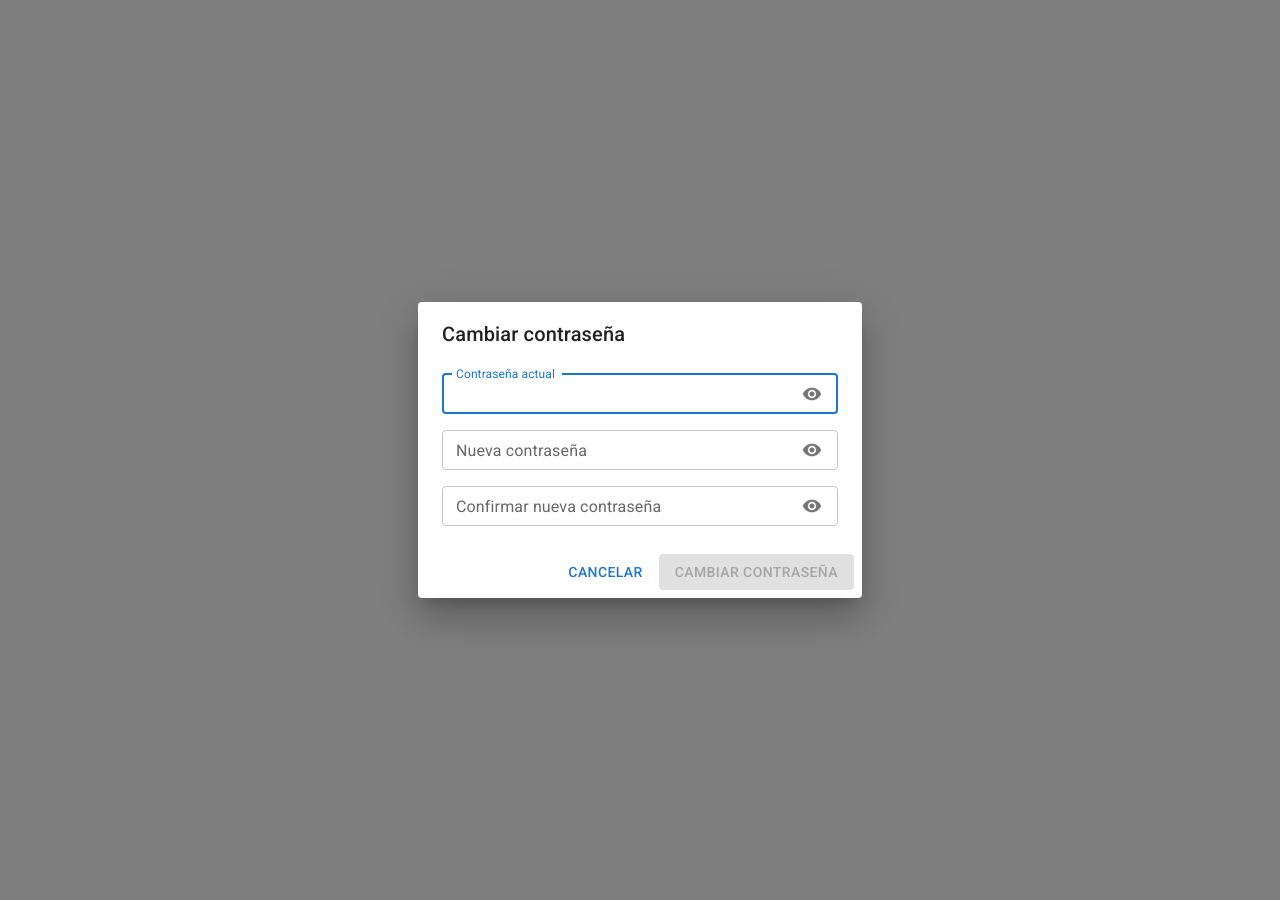
Scenario: ChangePasswordDialog › validates password confirmation match
Step 1. Type "NewPass1!" into the password field labelled "Nueva contraseña" → (616, 450), box left=442, top=430, right=789, bottom=470
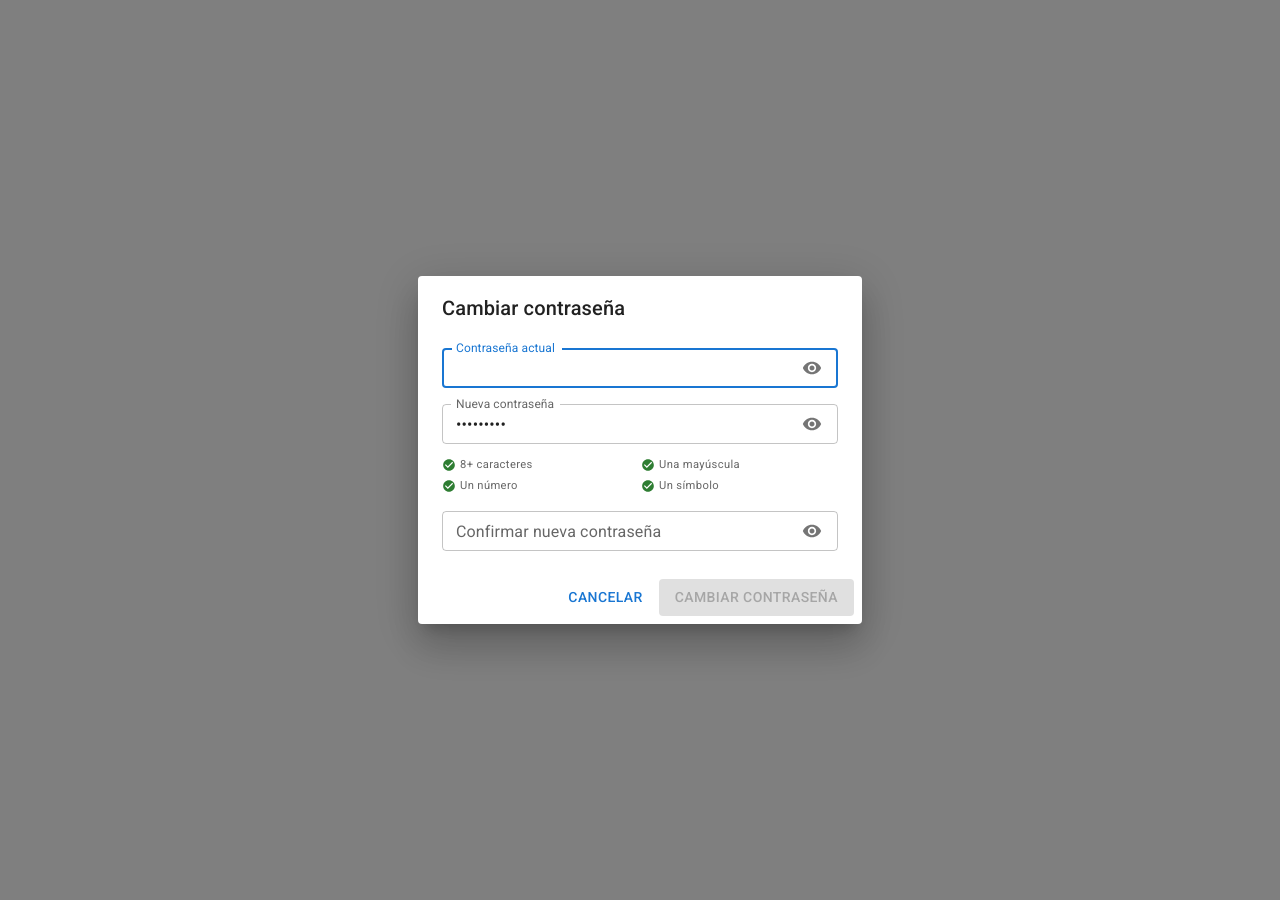
Step 2. Type "different" into the password field labelled "Confirmar nueva contraseña" → (616, 531), box left=442, top=511, right=789, bottom=551
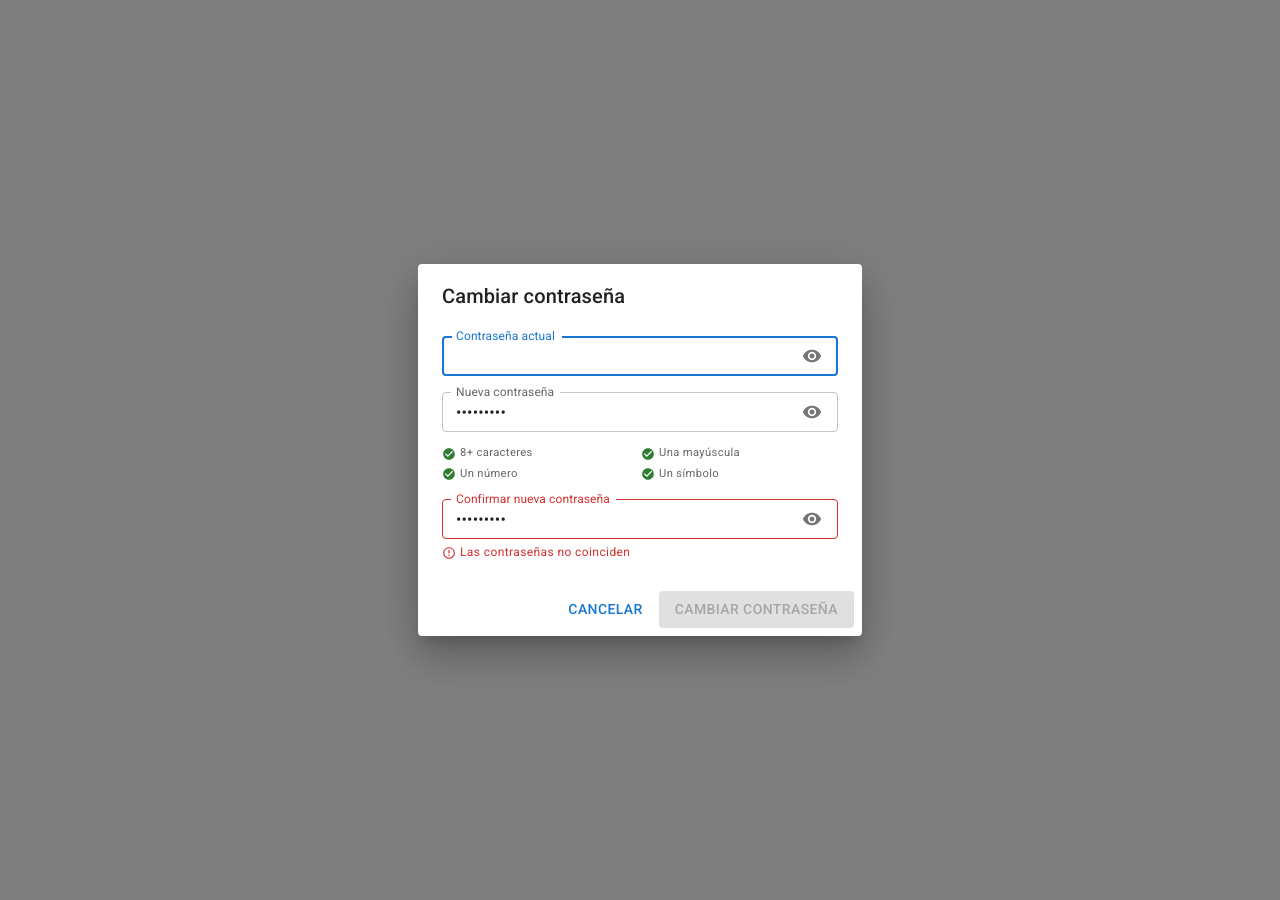
Now the text "Las contraseñas no coinciden" is shown, box left=460, top=543, right=630, bottom=563
